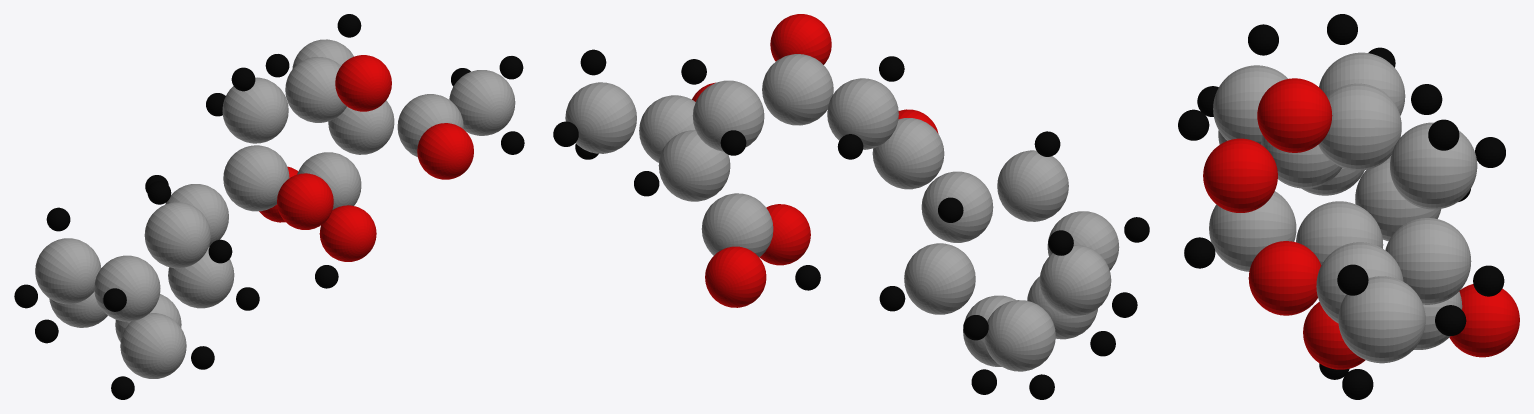
Rendered from Cortisol.glb.
The picture shows the model from 3 angles, left to right: view 1: azimuth 30°, elevation 25°; view 2: azimuth 150°, elevation 25°; view 3: azimuth 270°, elevation 25°; orthographic projection. The views are drawn at different scales.
Visible parts, largest first — view 1: world; view 2: world; view 3: world.
Part boxes in pixels (x1,y1,x2,y2): world: (14,14,524,399); world: (553,14,1149,399); world: (1178,14,1519,399).
Bounding box in the file's own units: 12.48 × 6.7 × 5.48.
